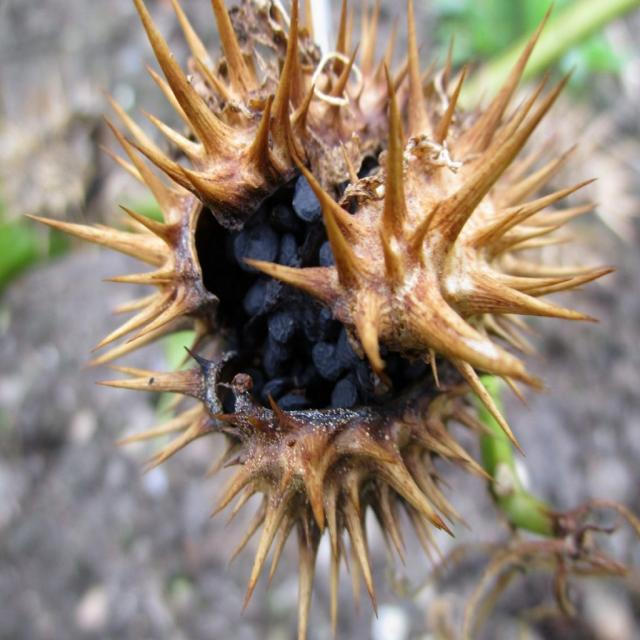Poisonous-Datura_Stramonium: (38, 0, 634, 635)
